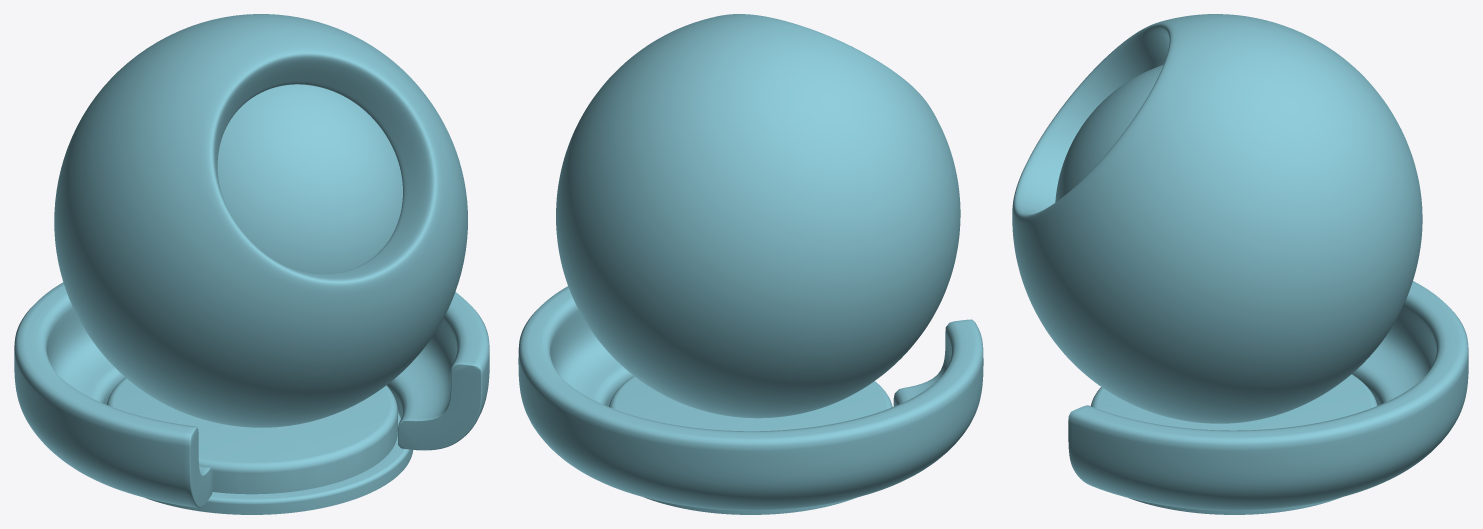
File: standard_surface_carpaint.mtlx.glb
3 renders of one model, left to right at view 1: azimuth 30°, elevation 25°; view 2: azimuth 150°, elevation 25°; view 3: azimuth 270°, elevation 25°, orthographic. The views are drawn at different scales.
Parts seen in each view (by area): view 1: Preview_Mesh, Calibration_Mesh; view 2: Preview_Mesh, Calibration_Mesh; view 3: Preview_Mesh, Calibration_Mesh.
Part boxes in pixels (bbox=[...]): Preview_Mesh: bbox=[14, 14, 489, 507]; Calibration_Mesh: bbox=[106, 84, 413, 514]; Preview_Mesh: bbox=[518, 14, 983, 510]; Calibration_Mesh: bbox=[609, 376, 892, 514]; Preview_Mesh: bbox=[1012, 14, 1468, 510]; Calibration_Mesh: bbox=[1055, 65, 1377, 514].
Bounding box in the file's own units: 2.14 × 2.09 × 2.08.
